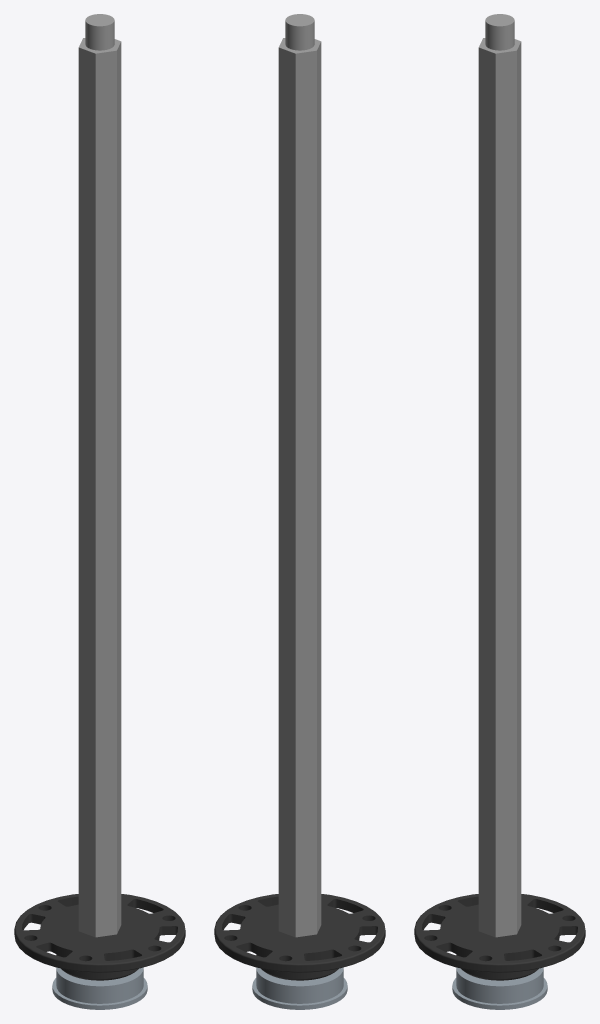
3 renders of one model, left to right at view 1: azimuth 30°, elevation 25°; view 2: azimuth 150°, elevation 25°; view 3: azimuth 270°, elevation 25°, orthographic.
Visible parts, largest first — view 1: 16.32" Hex Shaft, 217-2592-001 Rev7, .5" Hex ID 1.125" OD Flanged Bearing (217-2734); view 2: 16.32" Hex Shaft, 217-2592-001 Rev7, .5" Hex ID 1.125" OD Flanged Bearing (217-2734); view 3: 16.32" Hex Shaft, 217-2592-001 Rev7, .5" Hex ID 1.125" OD Flanged Bearing (217-2734).
Boxes of the visible parts, bbox=[...] form: 16.32" Hex Shaft: bbox=[78, 14, 121, 937]; 217-2592-001 Rev7: bbox=[14, 894, 185, 980]; .5" Hex ID 1.125" OD Flanged Bearing (217-2734): bbox=[52, 967, 147, 1009]; 16.32" Hex Shaft: bbox=[278, 14, 321, 937]; 217-2592-001 Rev7: bbox=[214, 894, 385, 980]; .5" Hex ID 1.125" OD Flanged Bearing (217-2734): bbox=[252, 967, 347, 1009]; 16.32" Hex Shaft: bbox=[478, 14, 521, 937]; 217-2592-001 Rev7: bbox=[414, 894, 585, 980]; .5" Hex ID 1.125" OD Flanged Bearing (217-2734): bbox=[452, 967, 547, 1009].
Size of what is drawn, in the model's own units: 0.0559 by 0.3494 by 0.0559.
